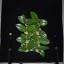leaf: (16, 24, 26, 32), (30, 12, 38, 22), (32, 21, 40, 31), (18, 14, 26, 23), (27, 30, 36, 38), (16, 36, 26, 43), (39, 38, 50, 44), (39, 30, 47, 38), (28, 41, 36, 49), (26, 25, 35, 32), (38, 45, 50, 50), (32, 39, 38, 49), (38, 49, 45, 57), (26, 18, 35, 24), (39, 20, 48, 26), (18, 46, 26, 52), (33, 34, 39, 41), (20, 34, 26, 38), (20, 43, 26, 47), (28, 47, 34, 51), (22, 45, 27, 49), (23, 18, 27, 22), (30, 36, 34, 39), (38, 30, 41, 32), (38, 20, 40, 22)
